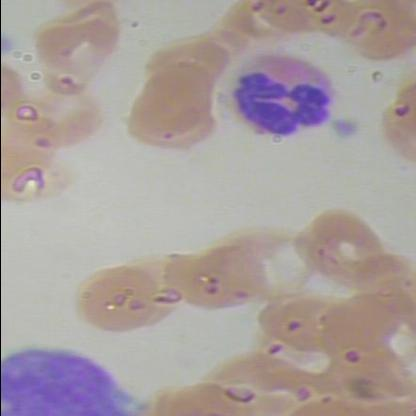Platelets: (328, 117, 364, 141), (1, 36, 21, 60)
RBC: (19, 67, 111, 158), (33, 4, 125, 94), (134, 52, 226, 142), (148, 14, 240, 104), (179, 236, 271, 326), (300, 200, 392, 290), (75, 251, 166, 341), (204, 350, 317, 416), (259, 286, 357, 352), (337, 0, 415, 63), (246, 0, 344, 47), (278, 390, 390, 416)
WBC: (221, 45, 336, 146), (1, 344, 150, 416)
